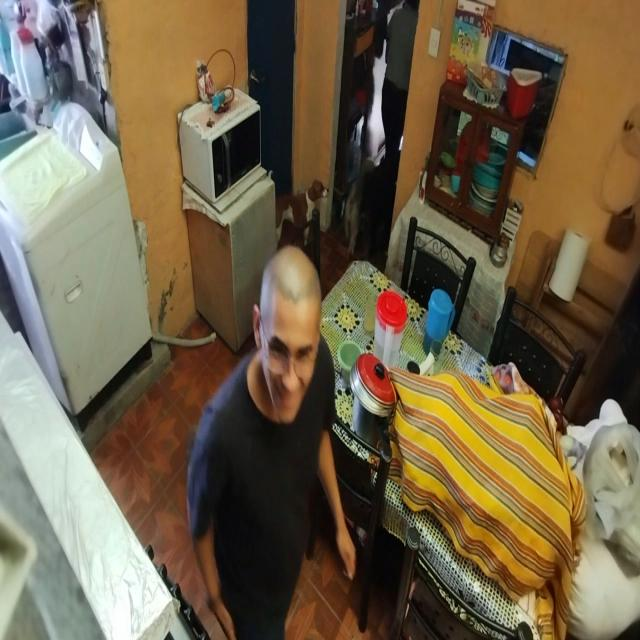adult: (184, 249, 364, 640)
